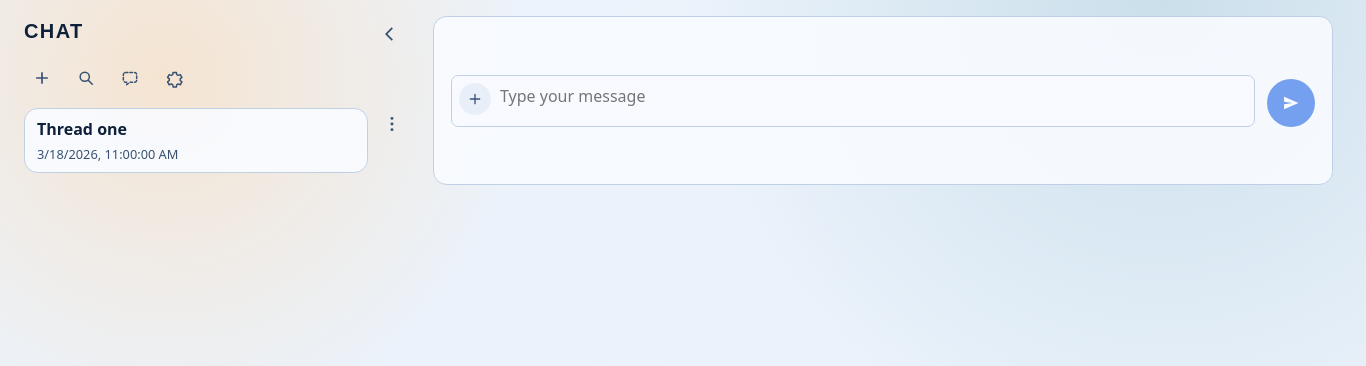
Test case: ChatPlaygroundPage › autoscrolls when streamed status messages arrive before response text
(page scrolled)
In the text box labelled "message": (853, 101) [451,75,1255,127], type "Slow status"
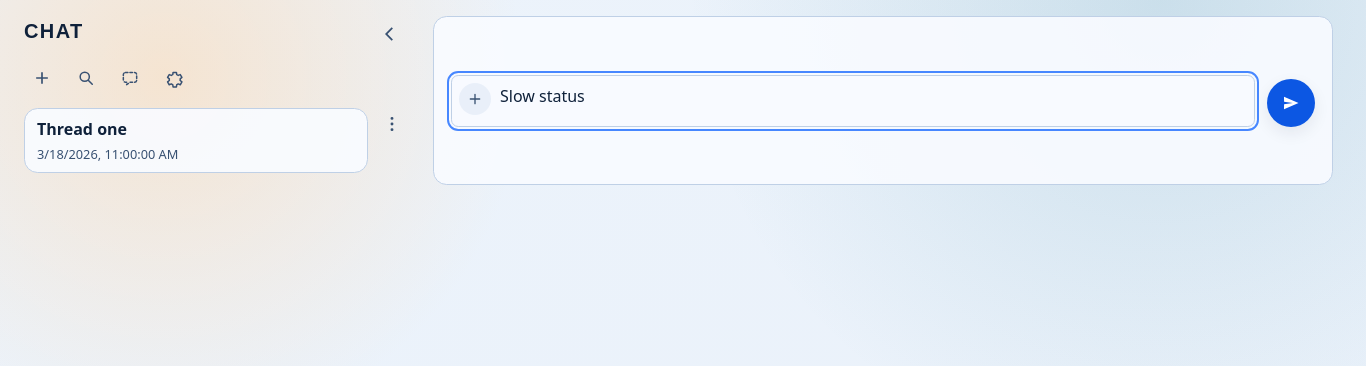
Click the button named "Send": (1291, 103) [1267,79,1315,127]
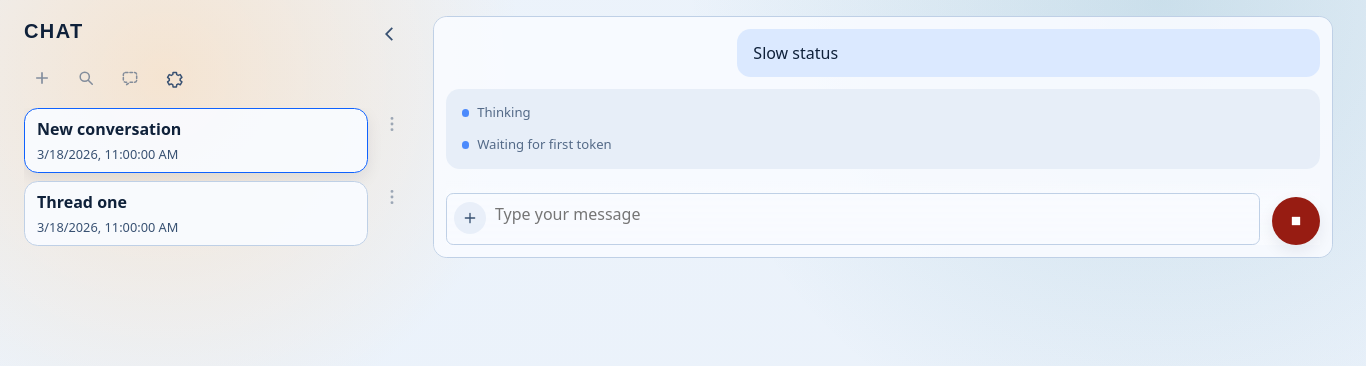
Expected: the text "Waiting for first token" is shown, [477,136,612,154]
